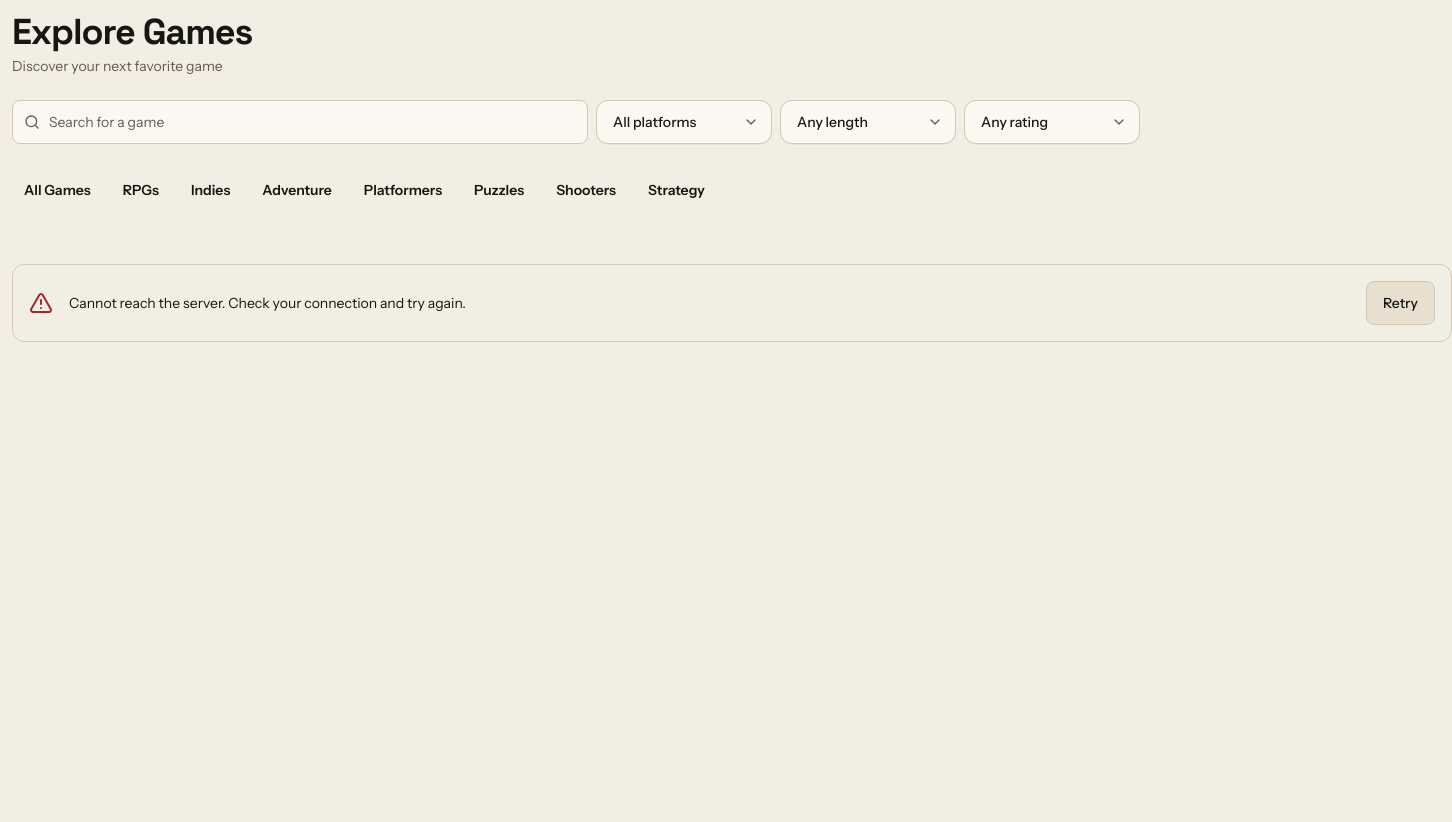
Test: Explore › shows the error with Retry, and recovers
The width and height of the screenshot is (1452, 822).
Expected: the message shows "Cannot reach the server", [69,294,466,312]
Click the button "Retry".
click(1400, 303)  # box [1366,281,1435,325]
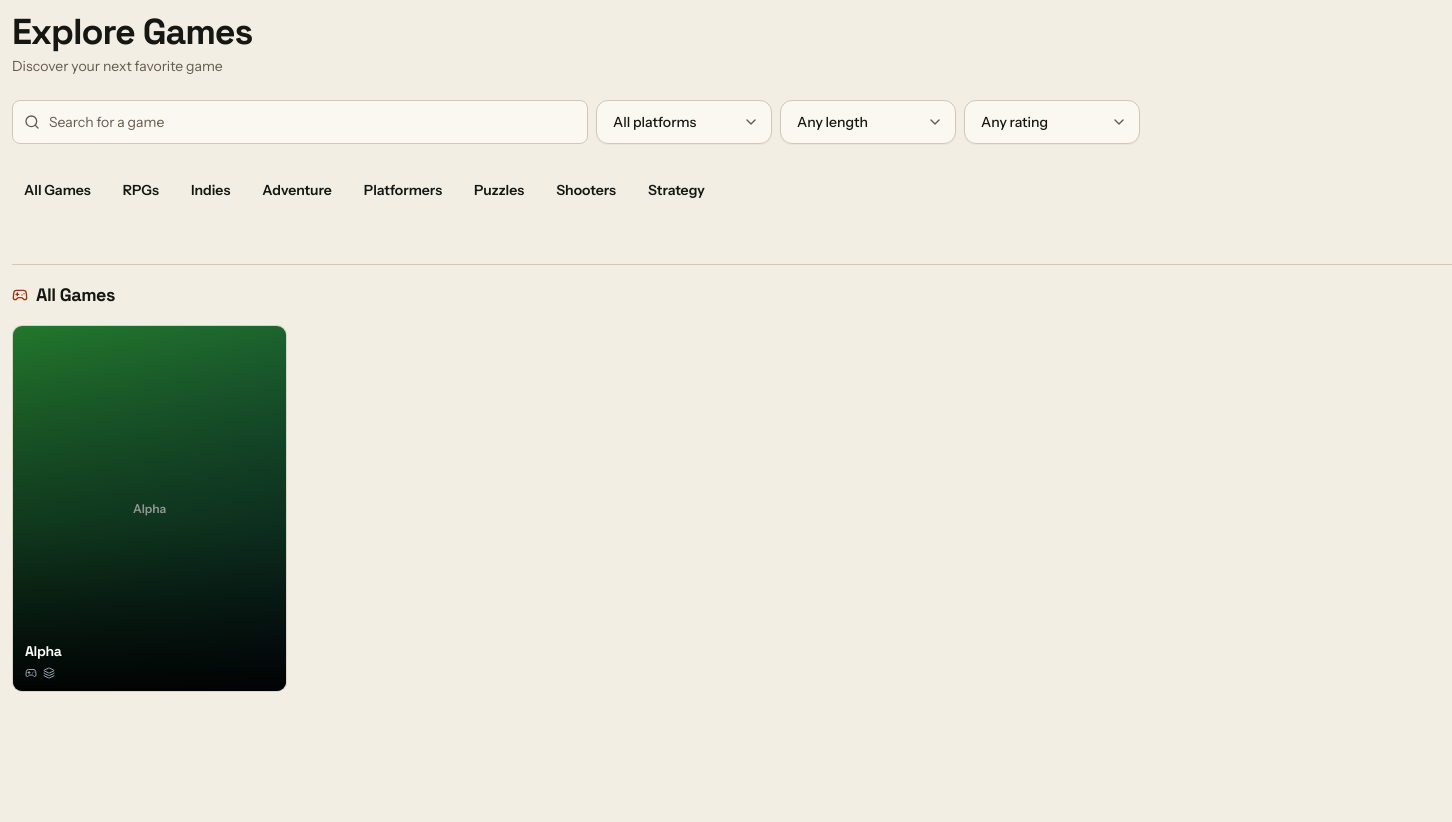
Expected: the link "Alpha Alpha" is shown, [12,325,287,692]
